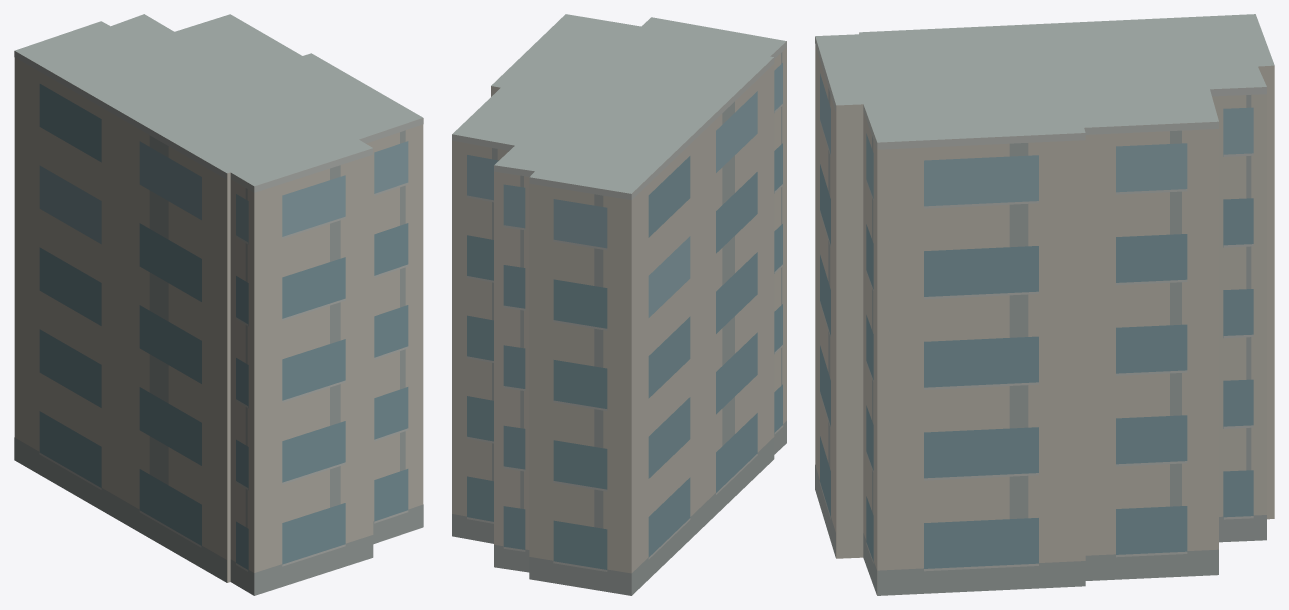
File: survey-upis-33036386.glb
3 renders of one model, left to right at view 1: azimuth 30°, elevation 25°; view 2: azimuth 150°, elevation 25°; view 3: azimuth 270°, elevation 25°, orthographic. The views are drawn at different scales.
Parts seen in each view (by area): view 1: survey-upis-33036386.tmp; view 2: survey-upis-33036386.tmp; view 3: survey-upis-33036386.tmp.
Boxes of the visible parts, left/top/right/bottom form: survey-upis-33036386.tmp: left=14, top=14, right=423, bottom=595; survey-upis-33036386.tmp: left=452, top=14, right=786, bottom=595; survey-upis-33036386.tmp: left=815, top=14, right=1274, bottom=595.
Bounding box in the file's own units: 9.3 × 15.28 × 14.05.
